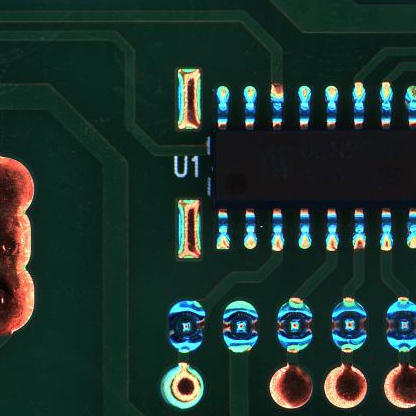spot: (167, 301, 207, 355), (331, 297, 368, 355), (223, 300, 258, 355), (278, 299, 312, 353), (384, 296, 416, 352)
